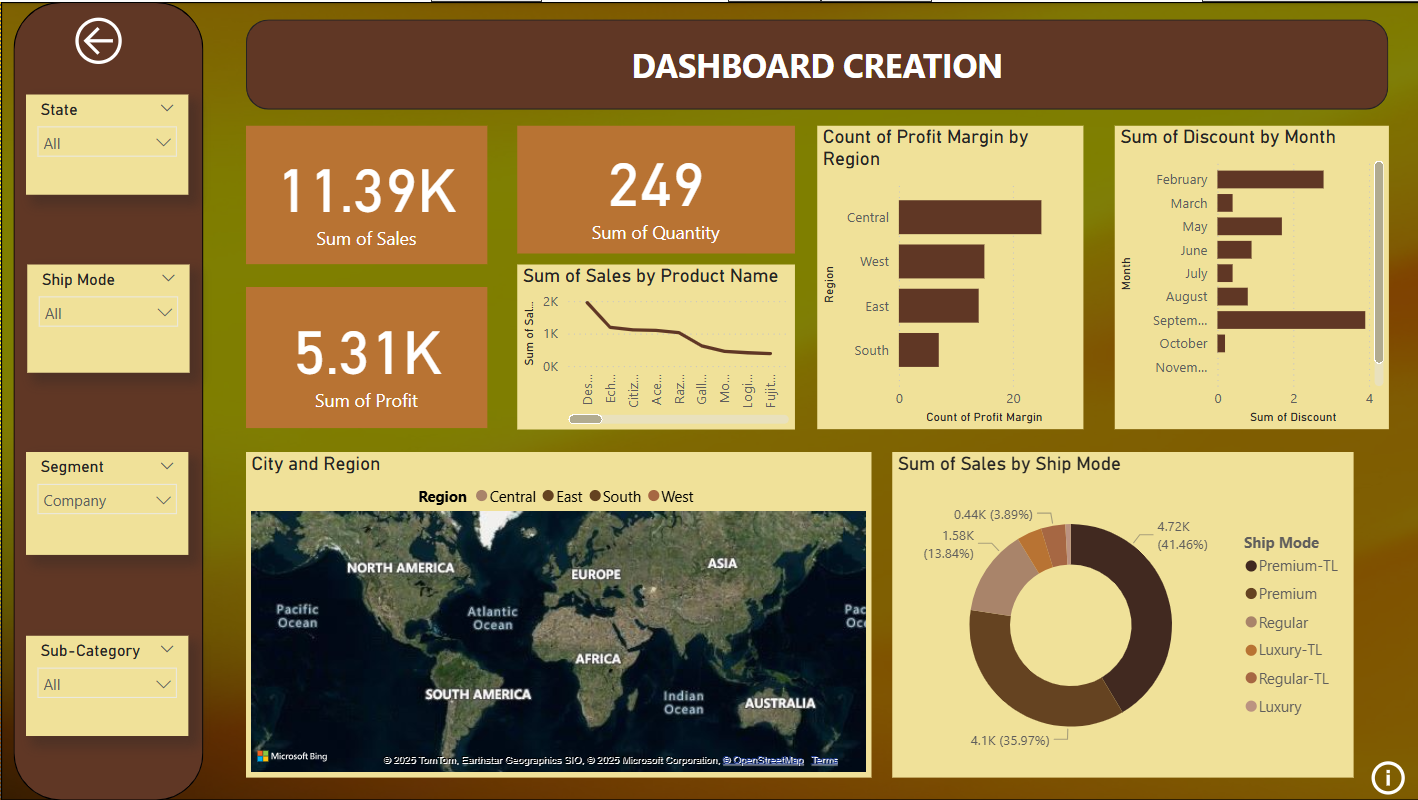

The dashboard page shown, as its layout file describes it:
{"tool":"powerbi","page":{"name":"Dashboard","canvas":[1280,720],"ordinal":1},"visuals":[{"type":"shape","box":[0,0,1280,720],"z":0},{"type":"shape","box":[11.1,0,171.2,720],"z":0,"group":"g1"},{"type":"group","id":"g1","title":"Group 1","box":[11.1,0,171.2,720],"z":6,"group":"g2"},{"type":"actionButton","box":[52.5,0,78.8,70],"z":15,"group":"g2"},{"type":"shape","box":[221.2,16.2,1030,81.2],"z":1000},{"type":"slicer","fields":{"Values":["Source file.State"]},"box":[22.3,83.8,146.2,90],"z":1000,"group":"g1"},{"type":"card","fields":{"Values":["Sum(Source file.Sales)"]},"box":[221.2,111.2,217.5,125],"z":2000},{"type":"slicer","fields":{"Values":["Source file.Ship Mode"]},"box":[23.6,236.2,146.2,97.5],"z":2000,"group":"g1"},{"type":"card","fields":{"Values":["Sum(Source file.Profit)"]},"box":[221.2,257.5,217.5,127.5],"z":3000},{"type":"slicer","fields":{"Values":["Source file.Segment"]},"box":[22.3,406.2,146.2,92.5],"z":3000,"group":"g1"},{"type":"card","fields":{"Values":["Sum(Source file.Quantity)"]},"box":[465,111.2,250,115],"z":4000},{"type":"slicer","fields":{"Values":["Source file.Sub-Category"]},"box":[22.3,571.2,146.2,90],"z":4000,"group":"g1"},{"type":"lineChart","fields":{"Category":["Source file.Product Name"],"Y":["Sum(Source file.Sales)"]},"box":[465,236.2,250,148.8],"z":5000},{"type":"barChart","fields":{"Category":["Source file.Region"],"Y":["CountNonNull(Source file.Profit Margin)"]},"box":[736.2,111.2,240,273.8],"z":6000},{"type":"barChart","fields":{"Y":["Sum(Source file.Discount)"],"Category":["Source file.Start of Month.Variation.Date Hierarchy.Month"]},"box":[1003.8,111.2,247.5,273.8],"z":7000},{"type":"filledMap","fields":{"Category":["Source file.City"],"Series":["Source file.Region"]},"box":[221.2,406.2,563.8,293.8],"z":8000},{"type":"actionButton","box":[1231.2,680,48.8,40],"z":9000},{"type":"group","id":"g2","title":"Group 2","box":[11.1,0,171.2,720],"z":10000},{"type":"donutChart","fields":{"Y":["Sum(Source file.Sales)"],"Category":["Source file.Ship Mode"]},"box":[803.8,406.2,416.2,293.8],"z":11000}]}

Visuals, with their boxes in screenshot pixels (x1, y1, x2, y2), scaled from the page's 1280x720 canvas onto the 1418x800 screenshot:
shape: box(0, 0, 1417, 799)
shape: box(12, 0, 202, 799)
"Group 1" group: box(12, 0, 202, 799)
actionButton: box(58, 0, 145, 78)
shape: box(245, 18, 1386, 108)
slicer - Source file.State: box(25, 93, 187, 193)
card - Sum(Source file.Sales): box(245, 124, 486, 262)
slicer - Source file.Ship Mode: box(26, 262, 188, 371)
card - Sum(Source file.Profit): box(245, 286, 486, 428)
slicer - Source file.Segment: box(25, 451, 187, 554)
card - Sum(Source file.Quantity): box(515, 124, 792, 251)
slicer - Source file.Sub-Category: box(25, 635, 187, 735)
lineChart - Source file.Product Name x Sum(Source file.Sales): box(515, 262, 792, 428)
barChart - Source file.Region x CountNonNull(Source file.Profit Margin): box(816, 124, 1081, 428)
barChart - Sum(Source file.Discount) x Source file.Start of Month.Variation.Date Hierarchy.Month: box(1112, 124, 1386, 428)
filledMap - Source file.City x Source file.Region: box(245, 451, 870, 778)
actionButton: box(1364, 756, 1417, 799)
"Group 2" group: box(12, 0, 202, 799)
donutChart - Sum(Source file.Sales) x Source file.Ship Mode: box(890, 451, 1352, 778)
